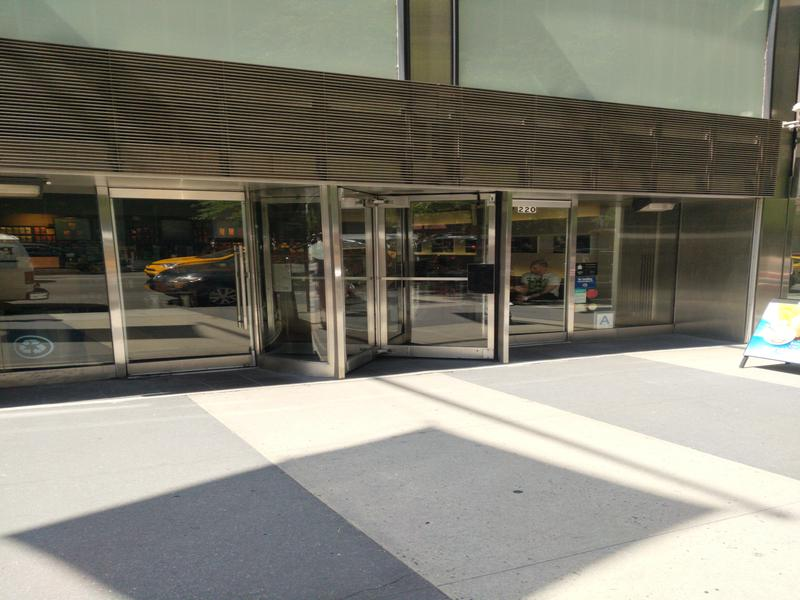revolving_door: (246, 176, 512, 373)
